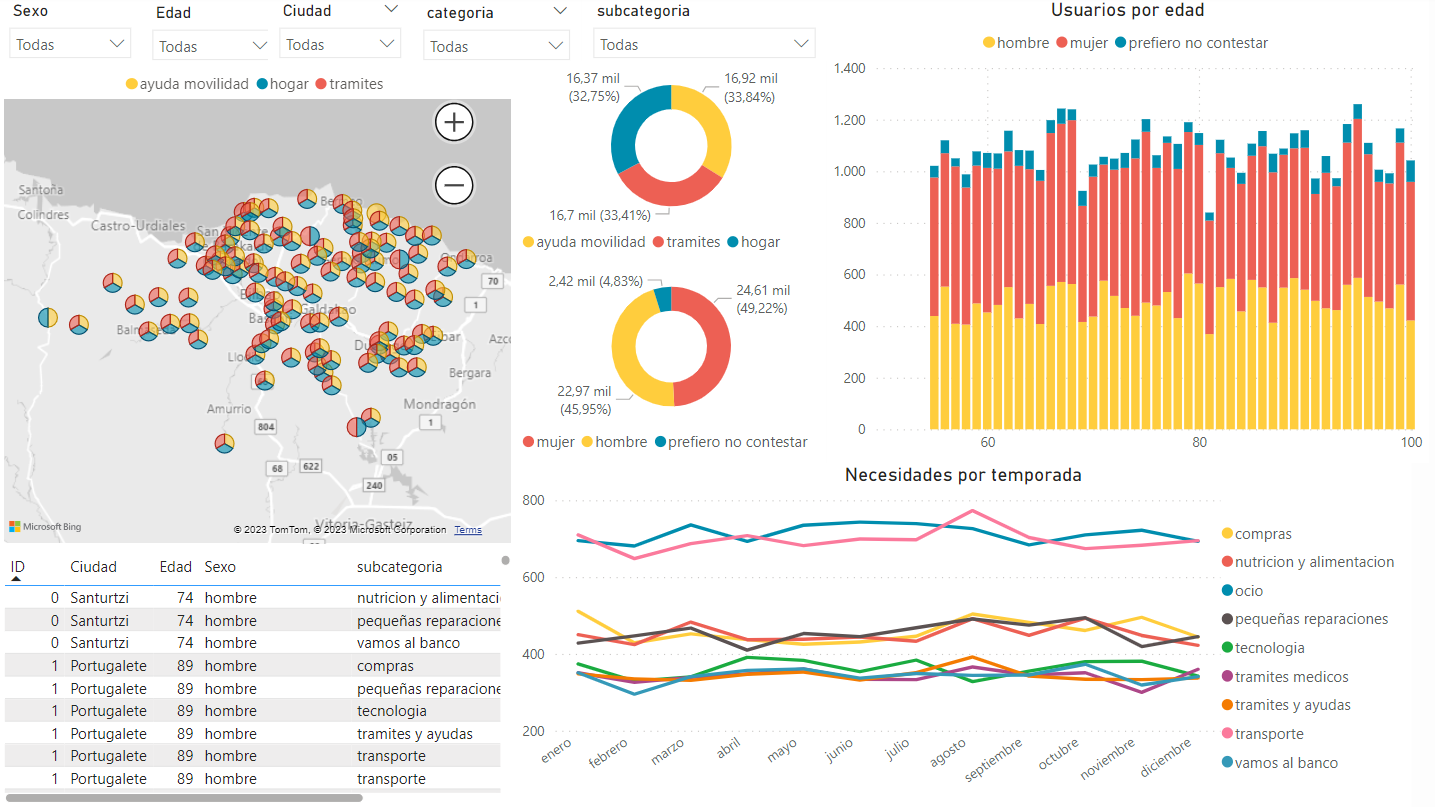

The page's visual inventory and layout, read from the dashboard file:
{"tool":"powerbi","page":{"name":"Página 1","canvas":[1280,720],"ordinal":0},"visuals":[{"type":"donutChart","title":"Categoria por id","fields":{"Y":["CountNonNull(Sheet1 (2).ID)"],"Category":["Sheet1 (2).categoria"]},"box":[458.7,57.6,275.4,178.9],"z":0},{"type":"lineChart","title":"Necesidades por temporada","fields":{"Category":["Sheet1 (2).fecha.Variación.Jerarquía de fechas.Mes"],"Y":["CountNonNull(Sheet1 (2).ID)"],"Series":["Sheet1 (2).subcategoria"]},"box":[458.7,413.6,792.6,306.4],"z":1000},{"type":"columnChart","title":"Usuarios por edad","fields":{"Category":["Sheet1 (2).Edad"],"Y":["CountNonNull(Sheet1 (2).ID)"],"Series":["Sheet1 (2).Sexo"]},"box":[734.2,1.8,533.1,411.8],"z":2000},{"type":"tableEx","fields":{"Values":["Sheet1 (2).ID","Sheet1 (2).Ciudad","Sheet1 (2).Edad","Sheet1 (2).Sexo","Sheet1 (2).subcategoria","Sheet1 (2).fecha.Variación.Jerarquía de fechas.Año","Sheet1 (2).fecha.Variación.Jerarquía de fechas.Mes","Sheet1 (2).fecha.Variación.Jerarquía de fechas.Día"]},"box":[0,489.7,458.7,230.3],"z":3000},{"type":"donutChart","fields":{"Category":["Sheet1 (2).Sexo"],"Y":["CountNonNull(Sheet1 (2).ID)"]},"box":[458.7,236.5,275.4,177.1],"z":4000},{"type":"slicer","fields":{"Values":["Sheet1 (2).Edad"]},"box":[127,2,128,56],"z":5000},{"type":"slicer","fields":{"Values":["Sheet1 (2).Sexo"]},"box":[0,0,128,58],"z":6000},{"type":"slicer","fields":{"Values":["Sheet1 (2).Ciudad"]},"box":[239,0,128,58],"z":7000},{"type":"slicer","fields":{"Values":["Sheet1 (2).subcategoria"]},"box":[517.2,0,217,57.6],"z":8000},{"type":"map","fields":{"Category":["Sheet1 (2).Ciudad"],"Y":["Avg(Sheet1 (2).Latitud)"],"X":["Avg(Sheet1 (2).Longitud)"],"Series":["Sheet1 (2).categoria"]},"box":[0,57.6,458.7,432.2],"z":9000},{"type":"slicer","fields":{"Values":["Sheet1 (2).categoria"]},"box":[367,2,150,56],"z":10000}]}

Visuals, with their boxes in screenshot pixels (x1, y1, x2, y2), scaled from the page's 1280x720 canvas onto the 1435x807 screenshot:
"Categoria por id" donutChart: {"x1": 514, "y1": 65, "x2": 823, "y2": 265}
"Necesidades por temporada" lineChart: {"x1": 514, "y1": 464, "x2": 1403, "y2": 806}
"Usuarios por edad" columnChart: {"x1": 823, "y1": 2, "x2": 1421, "y2": 464}
tableEx - Sheet1 (2).ID x Sheet1 (2).Ciudad: {"x1": 0, "y1": 549, "x2": 514, "y2": 806}
donutChart - Sheet1 (2).Sexo x CountNonNull(Sheet1 (2).ID): {"x1": 514, "y1": 265, "x2": 823, "y2": 464}
slicer - Sheet1 (2).Edad: {"x1": 142, "y1": 2, "x2": 286, "y2": 65}
slicer - Sheet1 (2).Sexo: {"x1": 0, "y1": 0, "x2": 144, "y2": 65}
slicer - Sheet1 (2).Ciudad: {"x1": 268, "y1": 0, "x2": 411, "y2": 65}
slicer - Sheet1 (2).subcategoria: {"x1": 580, "y1": 0, "x2": 823, "y2": 65}
map - Sheet1 (2).Ciudad x Avg(Sheet1 (2).Latitud): {"x1": 0, "y1": 65, "x2": 514, "y2": 549}
slicer - Sheet1 (2).categoria: {"x1": 411, "y1": 2, "x2": 580, "y2": 65}
